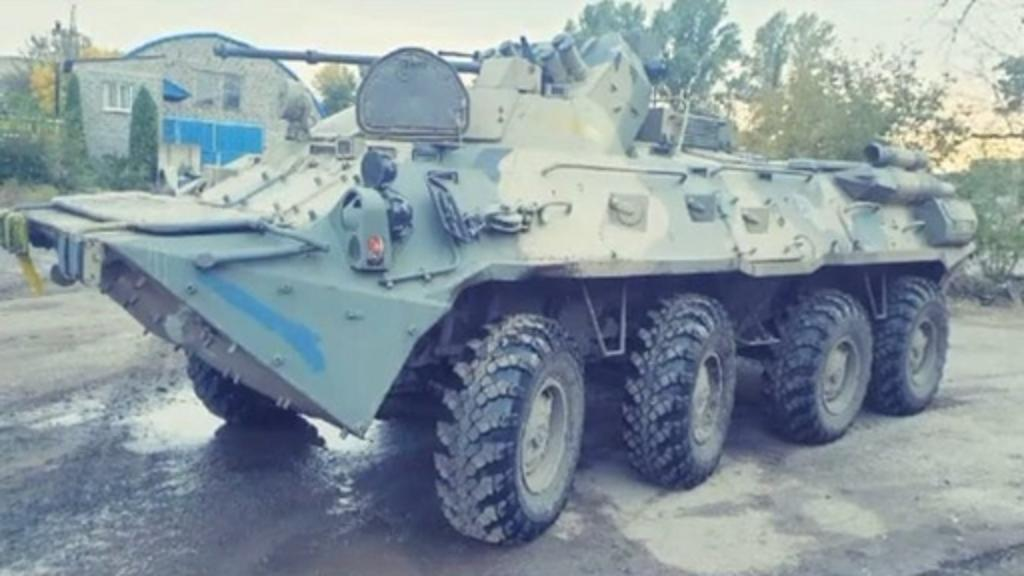APC-IFV: (0, 28, 972, 538)
